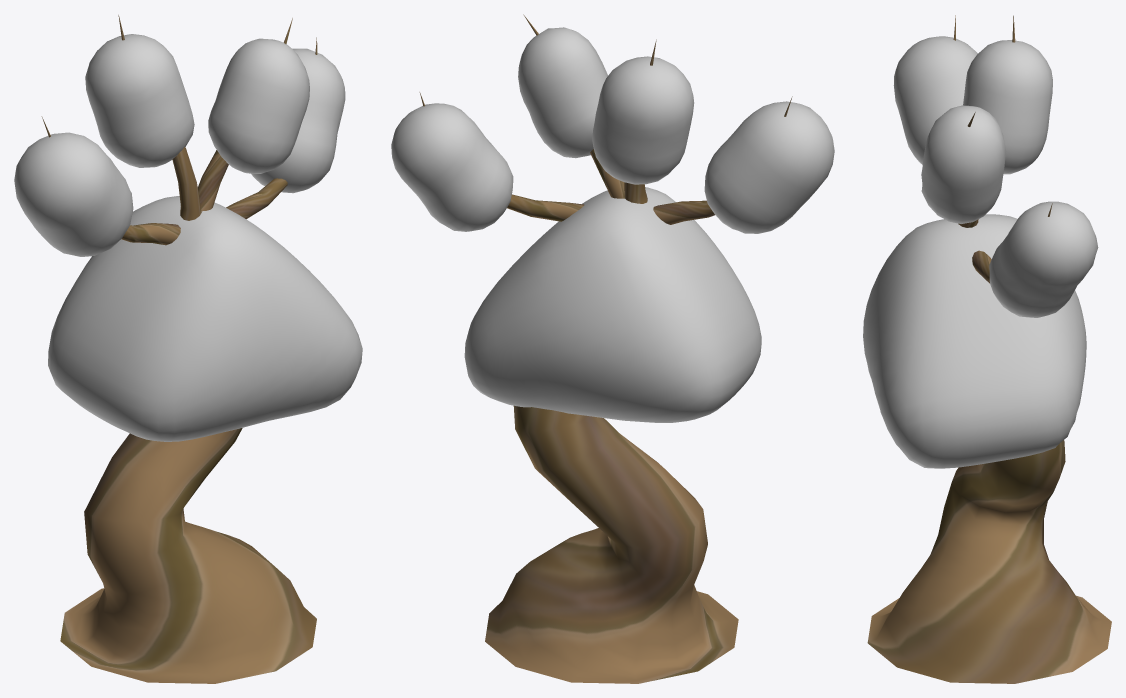
Rendered from SM_Pawtree.fbx.
3 renders of one model, left to right at view 1: azimuth 30°, elevation 25°; view 2: azimuth 150°, elevation 25°; view 3: azimuth 270°, elevation 25°, orthographic. The views are drawn at different scales.
Parts seen in each view (by area): view 1: SM_Pawtree_Leaves, SM_Pawtree_Bark; view 2: SM_Pawtree_Leaves, SM_Pawtree_Bark; view 3: SM_Pawtree_Leaves, SM_Pawtree_Bark.
Boxes of the visible parts, x1=… form: SM_Pawtree_Leaves: x1=14, y1=34, x2=362, y2=441; SM_Pawtree_Bark: x1=41, y1=15, x2=317, y2=683; SM_Pawtree_Leaves: x1=391, y1=27, x2=834, y2=422; SM_Pawtree_Bark: x1=419, y1=14, x2=792, y2=683; SM_Pawtree_Leaves: x1=863, y1=36, x2=1098, y2=468; SM_Pawtree_Bark: x1=867, y1=15, x2=1111, y2=683.
Size of the model in its own units: 1558 by 2467 by 936.
